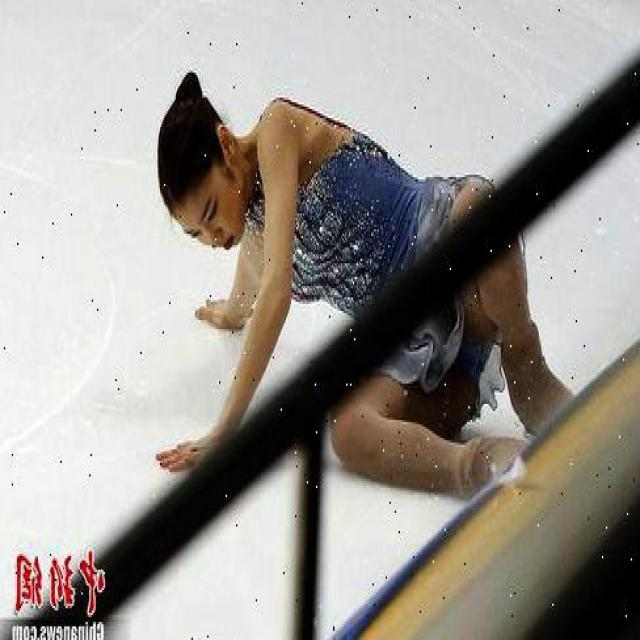fall: (141, 89, 548, 472)
